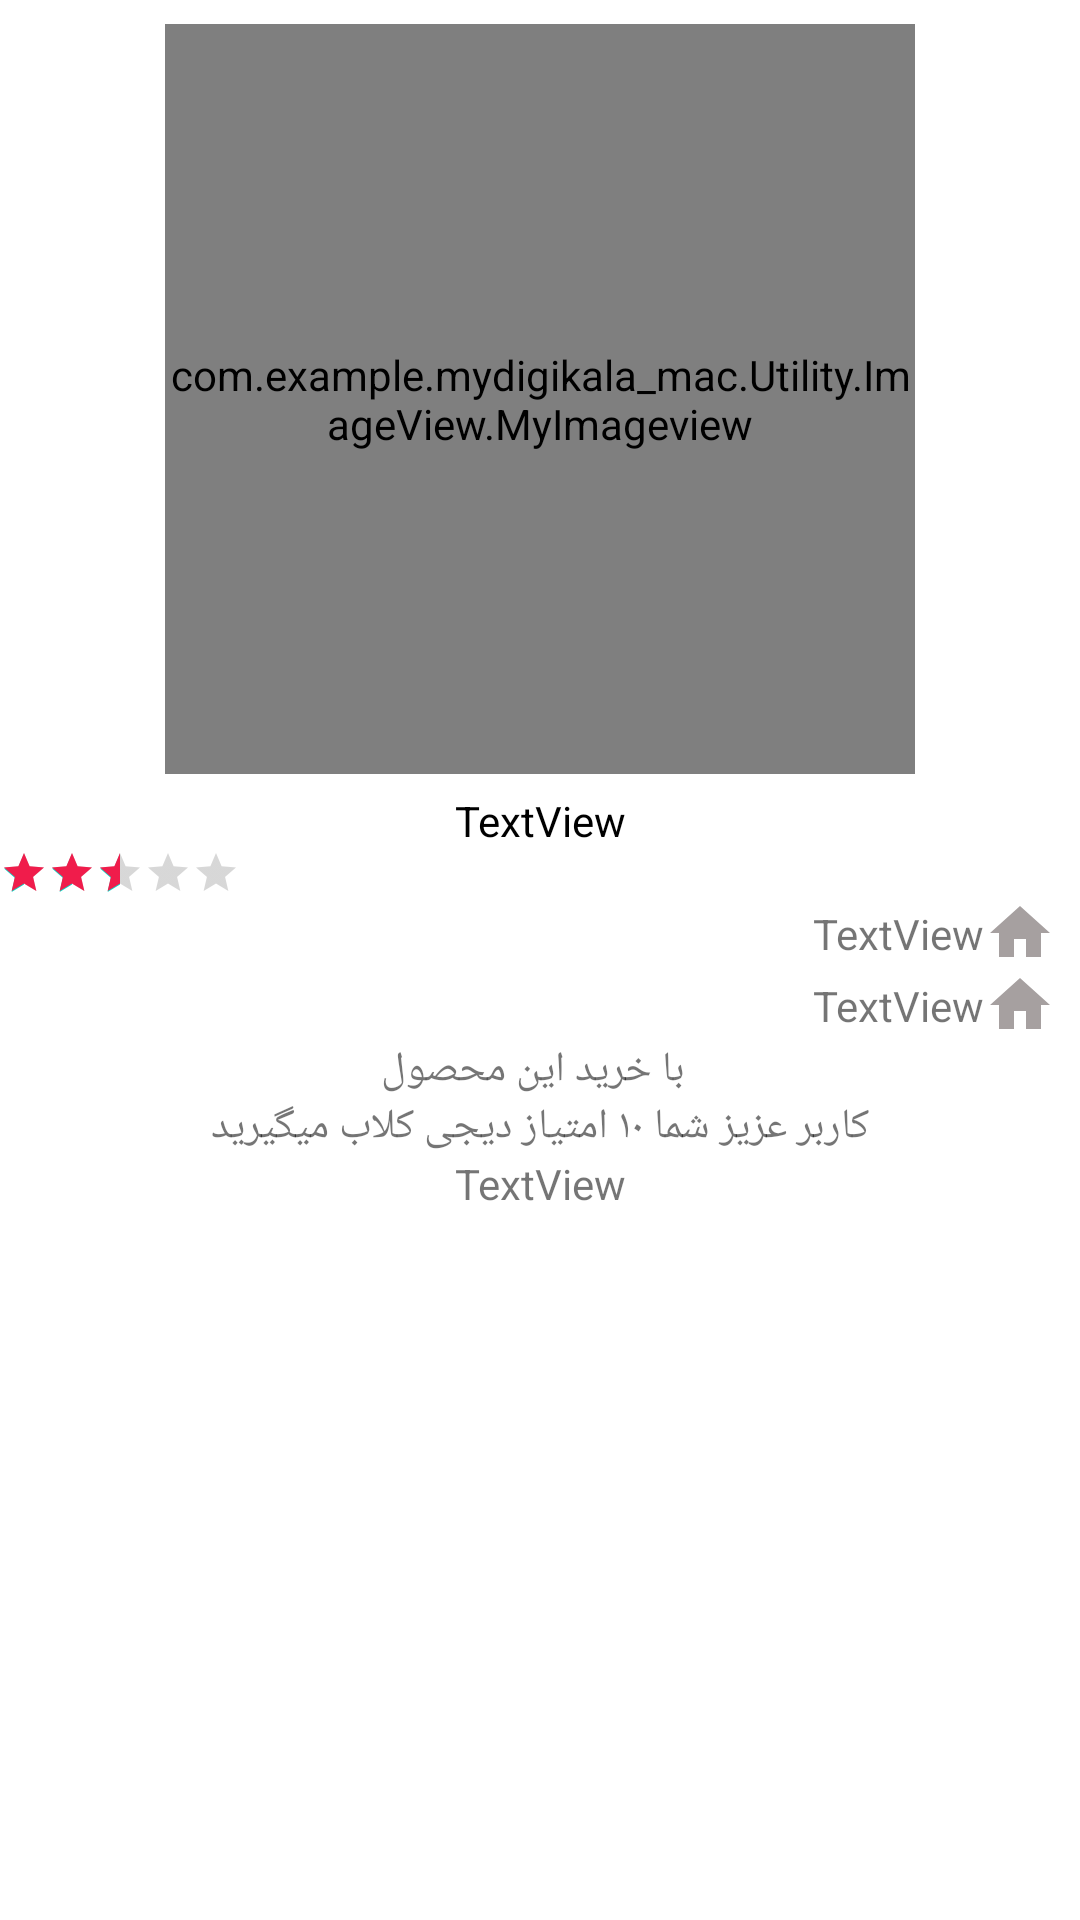

Icon bounding boxes for this 1080 x 1920 phone screenshot, format (x1, y1, x2, y2):
home: (990, 906, 1050, 957), (990, 978, 1050, 1029)
